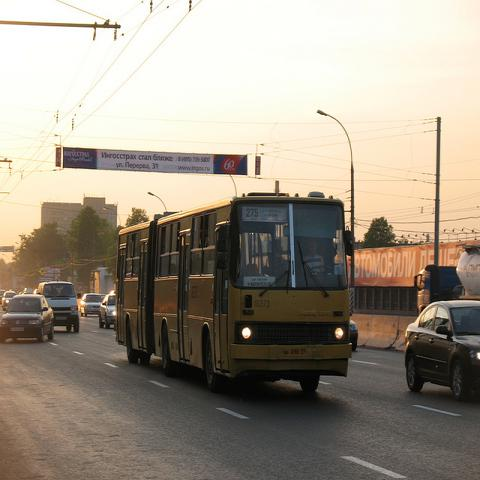bus: (115, 179, 354, 394)
car: (403, 298, 479, 398), (0, 295, 55, 343), (37, 281, 79, 334), (99, 293, 115, 330), (80, 293, 103, 317), (2, 290, 16, 311), (350, 319, 358, 350)
truck: (414, 244, 479, 318)
